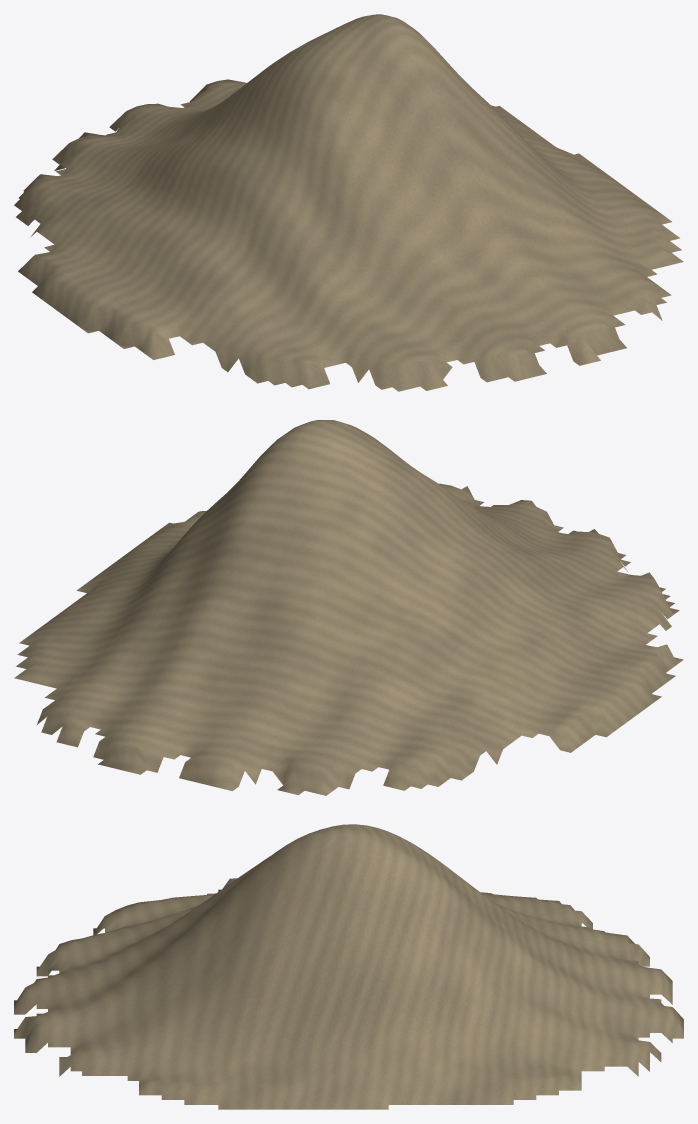
Rendered from border_dune_c_v5_dead.glb.
3 renders of one model, top to bottom at view 1: azimuth 30°, elevation 25°; view 2: azimuth 150°, elevation 25°; view 3: azimuth 270°, elevation 25°, orthographic. The views are drawn at different scales.
Parts seen in each view (by area): view 1: border_dune_c; view 2: border_dune_c; view 3: border_dune_c.
Boxes of the visible parts, box(x1,y1,x2,y2) form: border_dune_c: box(14, 14, 683, 391); border_dune_c: box(14, 420, 683, 795); border_dune_c: box(14, 824, 683, 1109).
Size of the model in its own units: 0.8772 by 0.3301 by 1.04.
Materials: 1 (1 with a texture image).
